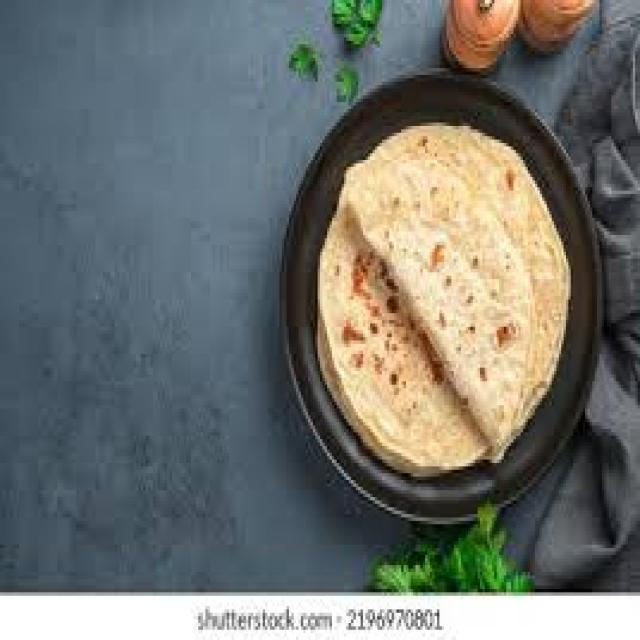ROTI: (332, 126, 568, 456)
